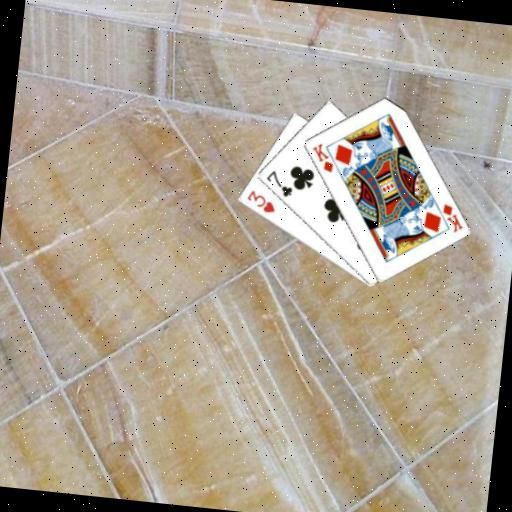3H: (242, 186, 278, 215)
7C: (261, 167, 296, 199)
KD: (307, 140, 337, 175), (437, 200, 467, 235)
